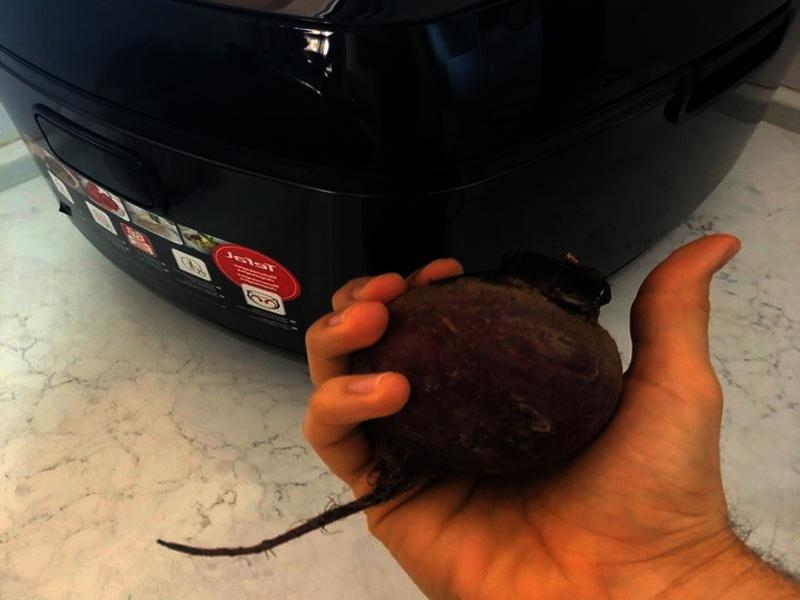Beet: (155, 251, 622, 557)
